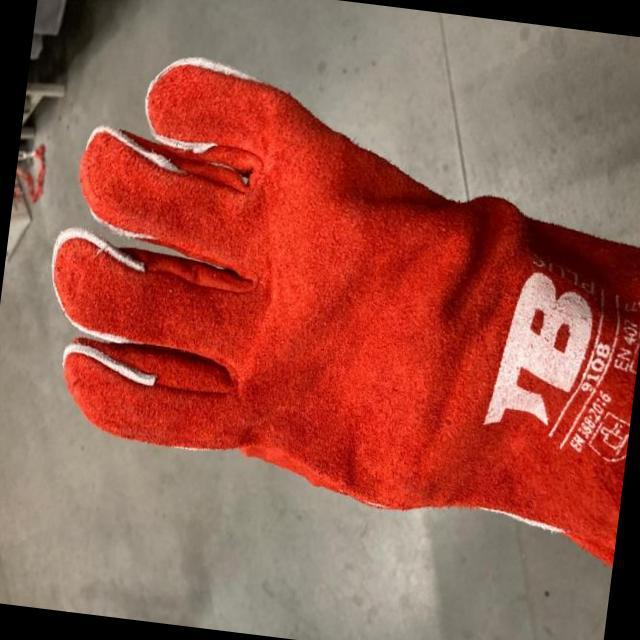glove: (45, 54, 613, 554)
